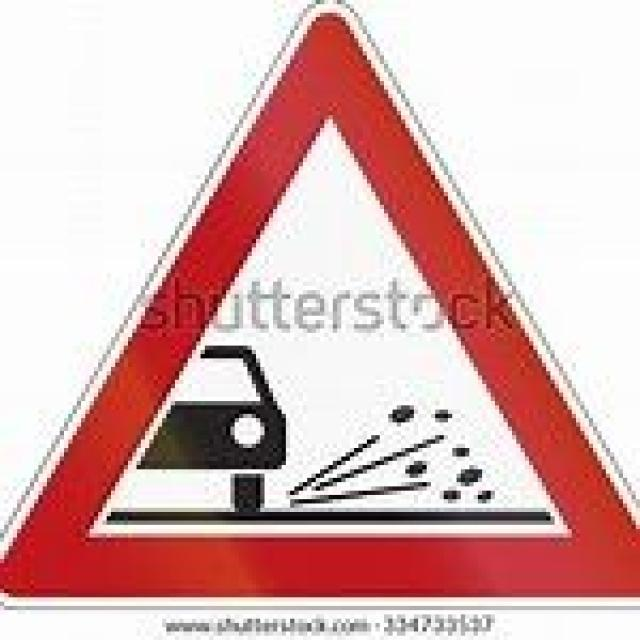loose gravel: (25, 18, 630, 600)
